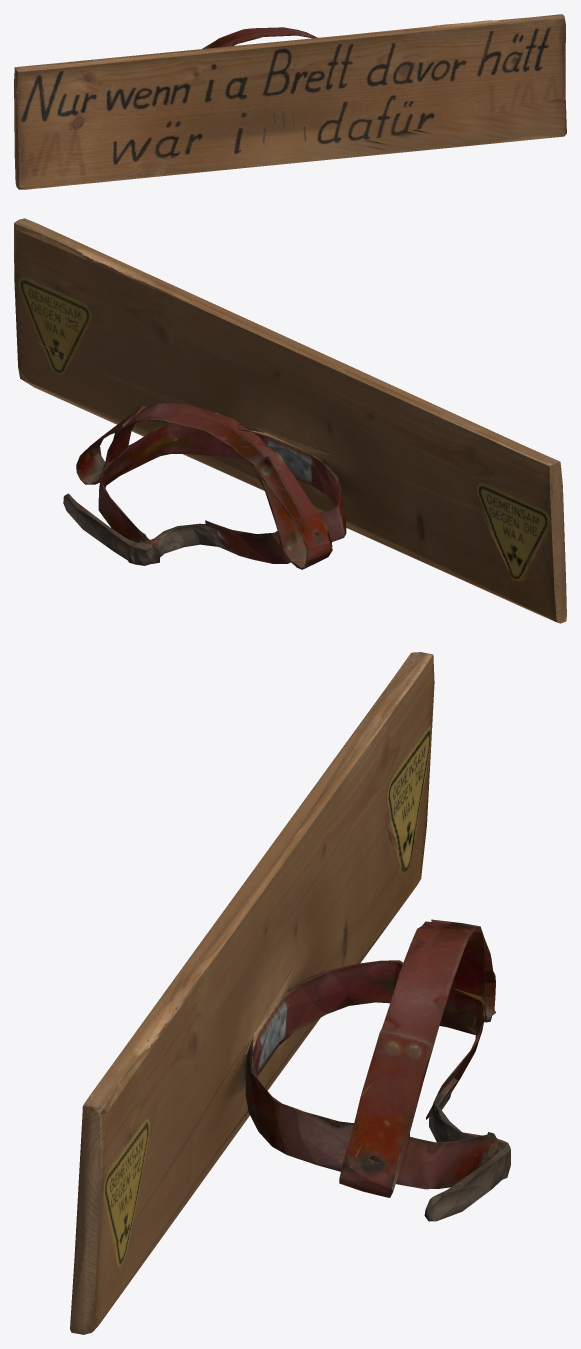
Rendered from D6D732BA-738E-CF4D-8DBF-08359F979037_512.glb.
3 views of the same model, one above another, from view 1: azimuth 30°, elevation 25°; view 2: azimuth 150°, elevation 25°; view 3: azimuth 270°, elevation 25° (orthographic). The views are drawn at different scales.
Visible parts, largest first — view 1: Holzbrett_1k_1k; view 2: Holzbrett_1k_1k; view 3: Holzbrett_1k_1k.
Part boxes in pixels (<box>): Holzbrett_1k_1k: <box>14,14,566,189</box>; Holzbrett_1k_1k: <box>14,218,566,623</box>; Holzbrett_1k_1k: <box>70,652,510,1334</box>.
Size of the model in its own units: 0.5781 by 0.1501 by 0.2349.
1 material, 1 textured.
